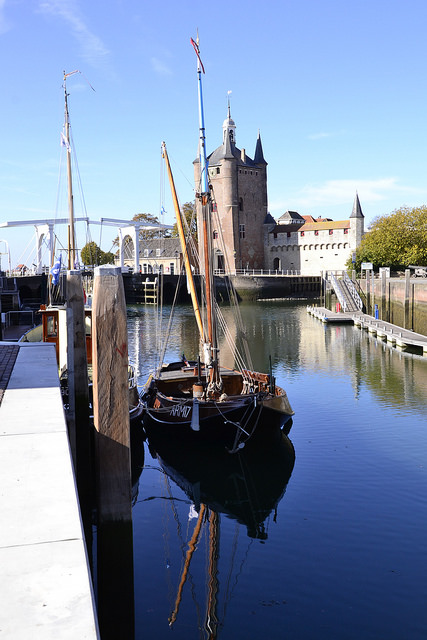fishing_boat: (138, 63, 305, 459)
